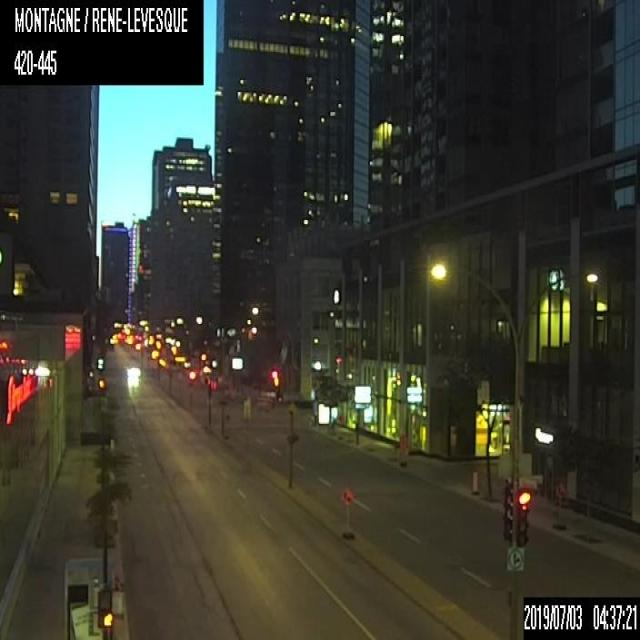construction: (341, 486, 354, 534), (554, 476, 566, 525), (398, 434, 407, 466)
vehicle: (127, 366, 140, 376)
